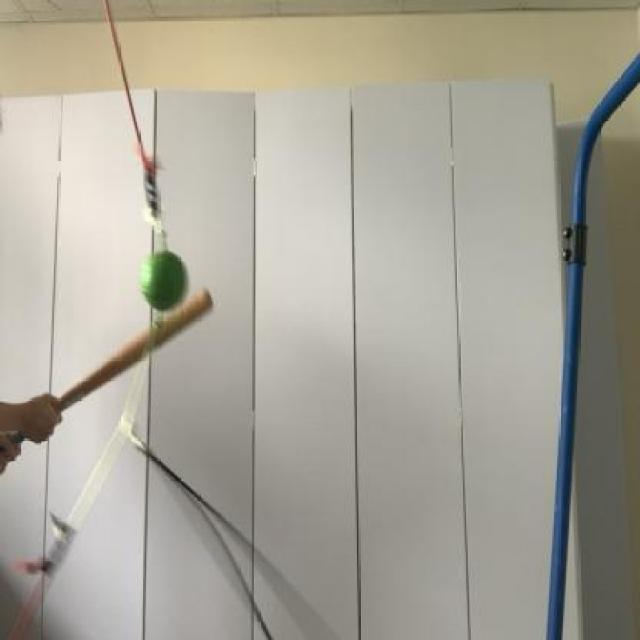baseball: (135, 248, 190, 318)
